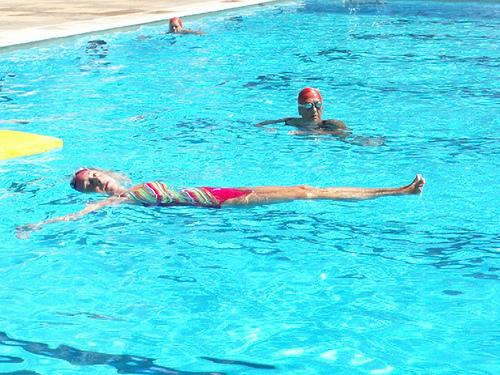swimmer: (23, 163, 428, 201), (254, 88, 368, 144), (164, 15, 204, 37)
